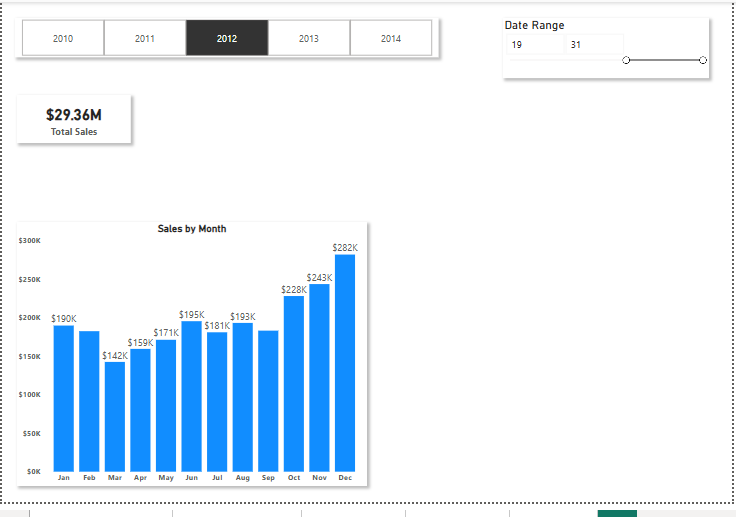

The page's visual inventory and layout, read from the dashboard file:
{"tool":"powerbi","page":{"name":"Date Range","canvas":[2600,1780],"ordinal":3},"visuals":[{"type":"slicer","fields":{"Values":["calendar.Year"]},"box":[45.4,55.8,1507.8,140],"z":0},{"type":"clusteredColumnChart","title":"Sales by Month","fields":{"Category":["calendar.MonthName"],"Y":["DAX Measures.Total Sales"]},"box":[52.4,781.8,1246,938.9],"z":1000},{"type":"slicer","title":"Date Range","fields":{"Values":["calendar.OrderDate.Variation.Date Hierarchy.Day"]},"box":[1783.6,57,733.4,213.6],"z":2000},{"type":"card","fields":{"Values":["DAX Measures.Total Sales"]},"box":[52.4,330.8,404.9,171],"z":3000}]}

Visuals, with their boxes in screenshot pixels (x1, y1, x2, y2), scaled from the page's 2600x1780 canvas onto the 736x517 screenshot:
slicer - calendar.Year: bbox(13, 16, 440, 57)
"Sales by Month" clusteredColumnChart: bbox(15, 227, 368, 500)
"Date Range" slicer: bbox(505, 17, 713, 79)
card - DAX Measures.Total Sales: bbox(15, 96, 129, 146)
